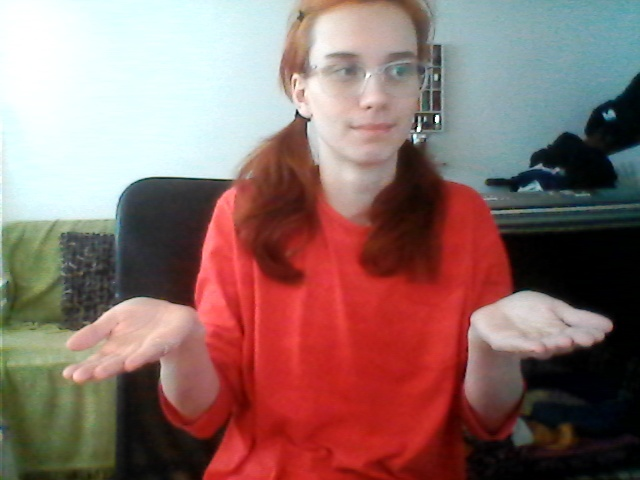alebo: (57, 294, 630, 394)
